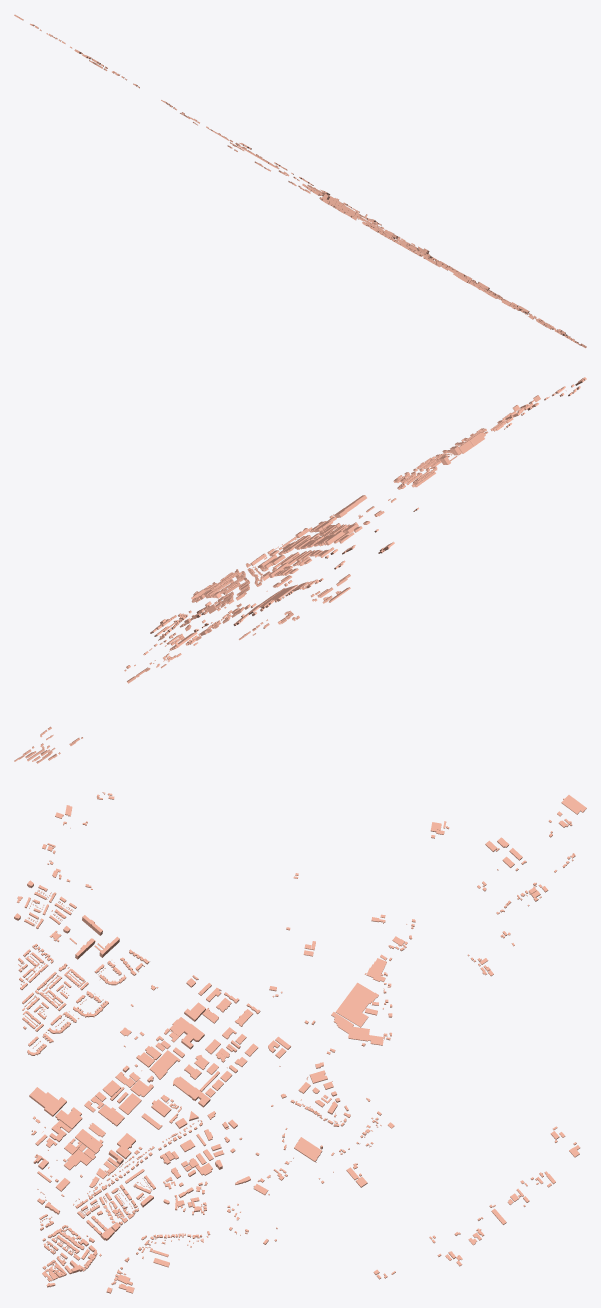
The picture shows the model from 3 angles, top to bottom: view 1: azimuth 30°, elevation 25°; view 2: azimuth 150°, elevation 25°; view 3: azimuth 270°, elevation 25°; orthographic projection. The views are drawn at different scales.
Bounding box in the file's own units: 1989 × 1462 × 2423.
